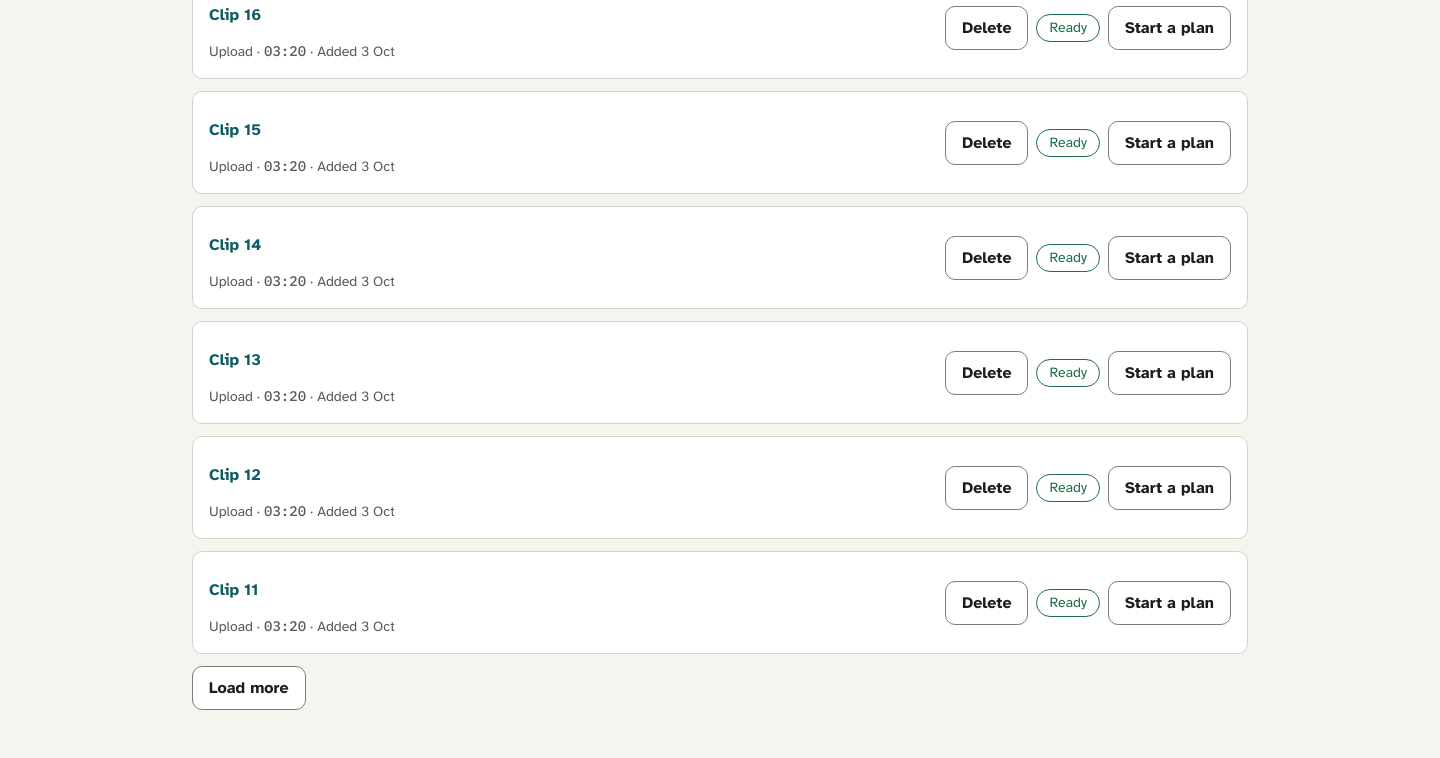
"Load more" fetches the next page with the cursor
(page scrolled)
Click the button "Load more".
click(249, 688)  # box [192, 666, 306, 710]
(page scrolled)
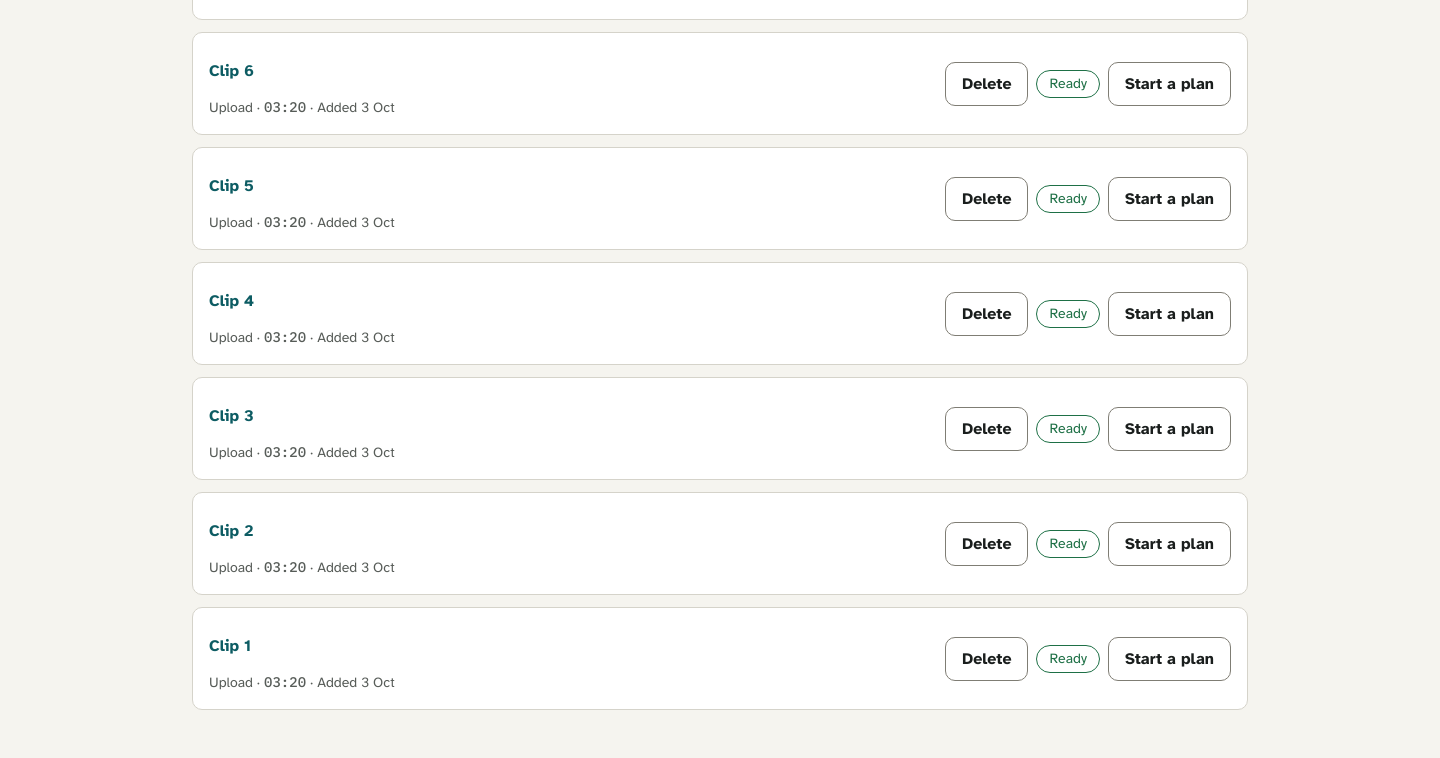
Check: the link "Clip 1" is shown, box [209, 636, 251, 656]
Check: the button "Load more" is gone
